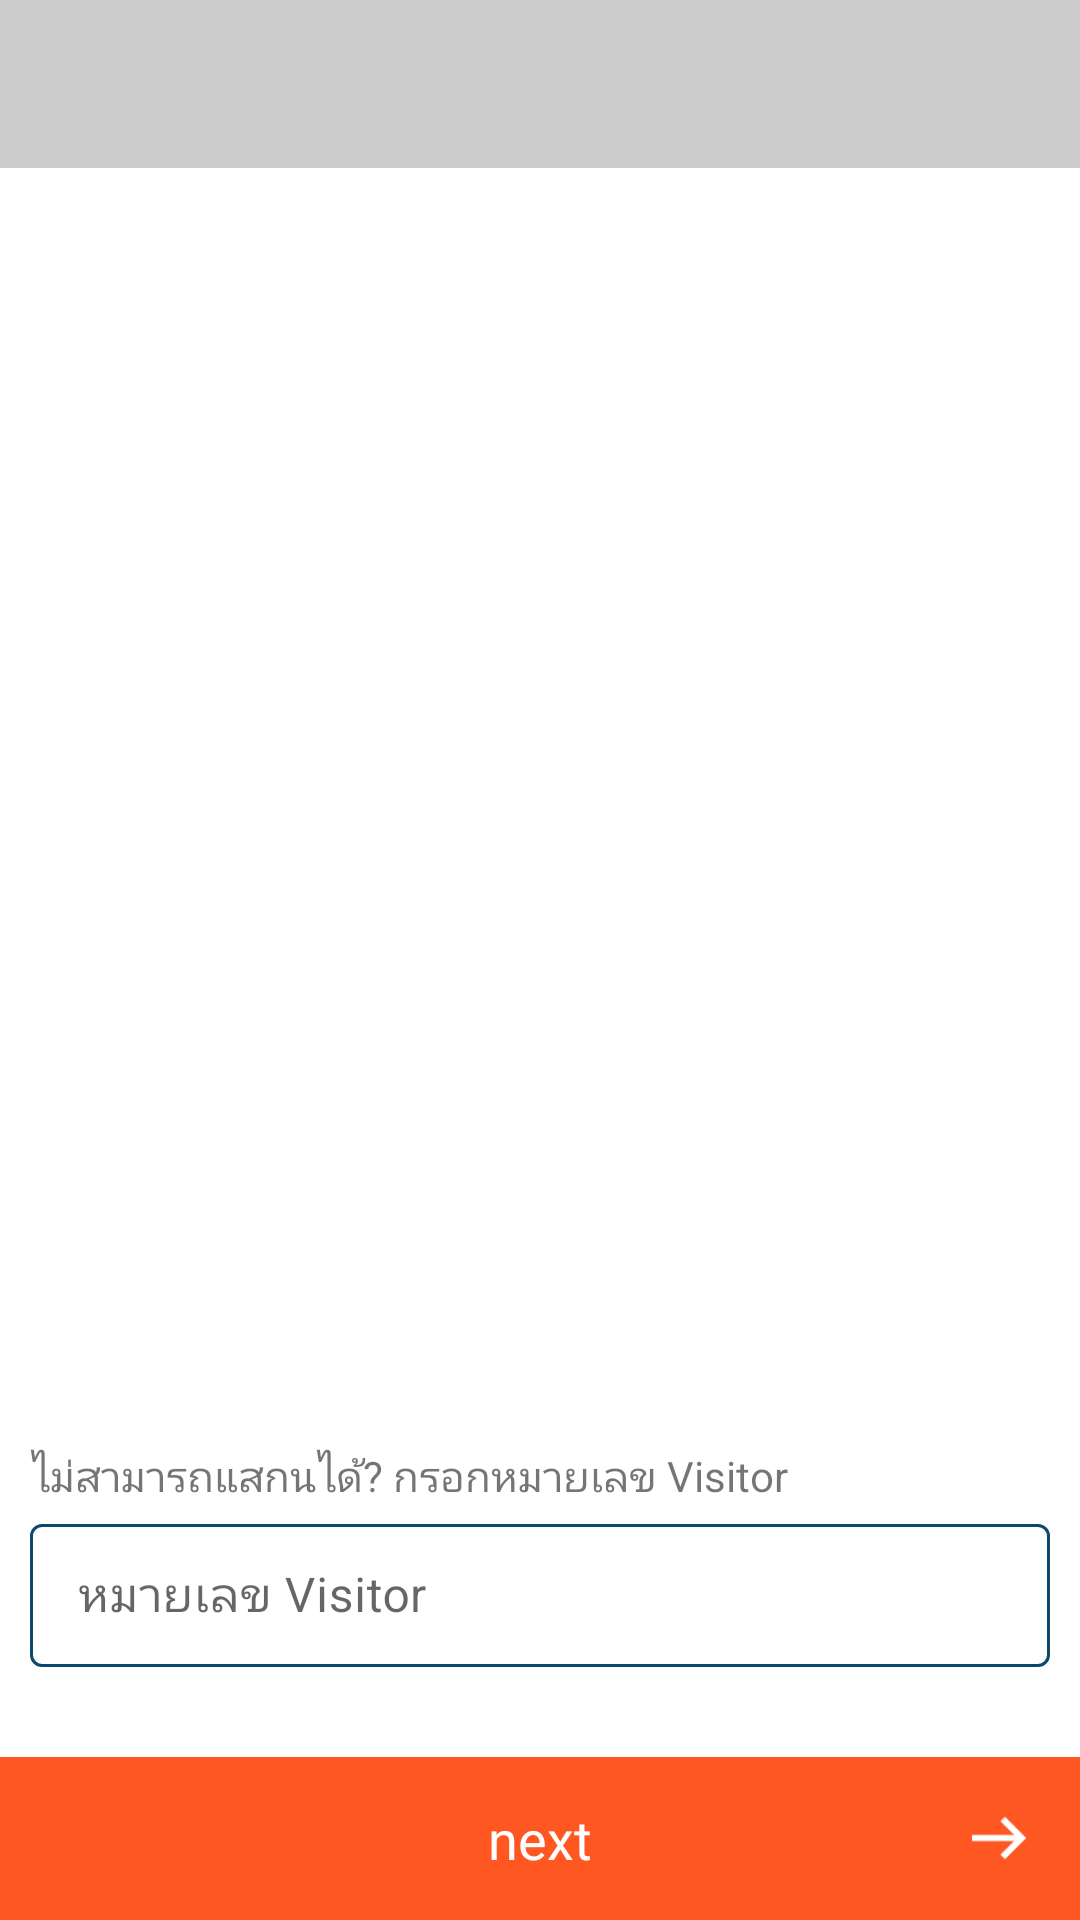

Screen size 1080 × 1920. Icon name, then its box in pixels as (x1, y1, x2, y2):
right: (972, 1816, 1026, 1860)
